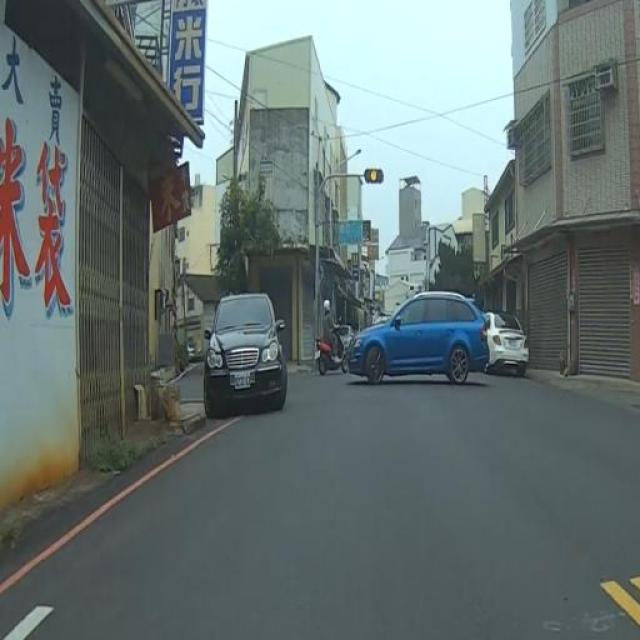illegalparking: (338, 292, 488, 384), (204, 294, 286, 416)
